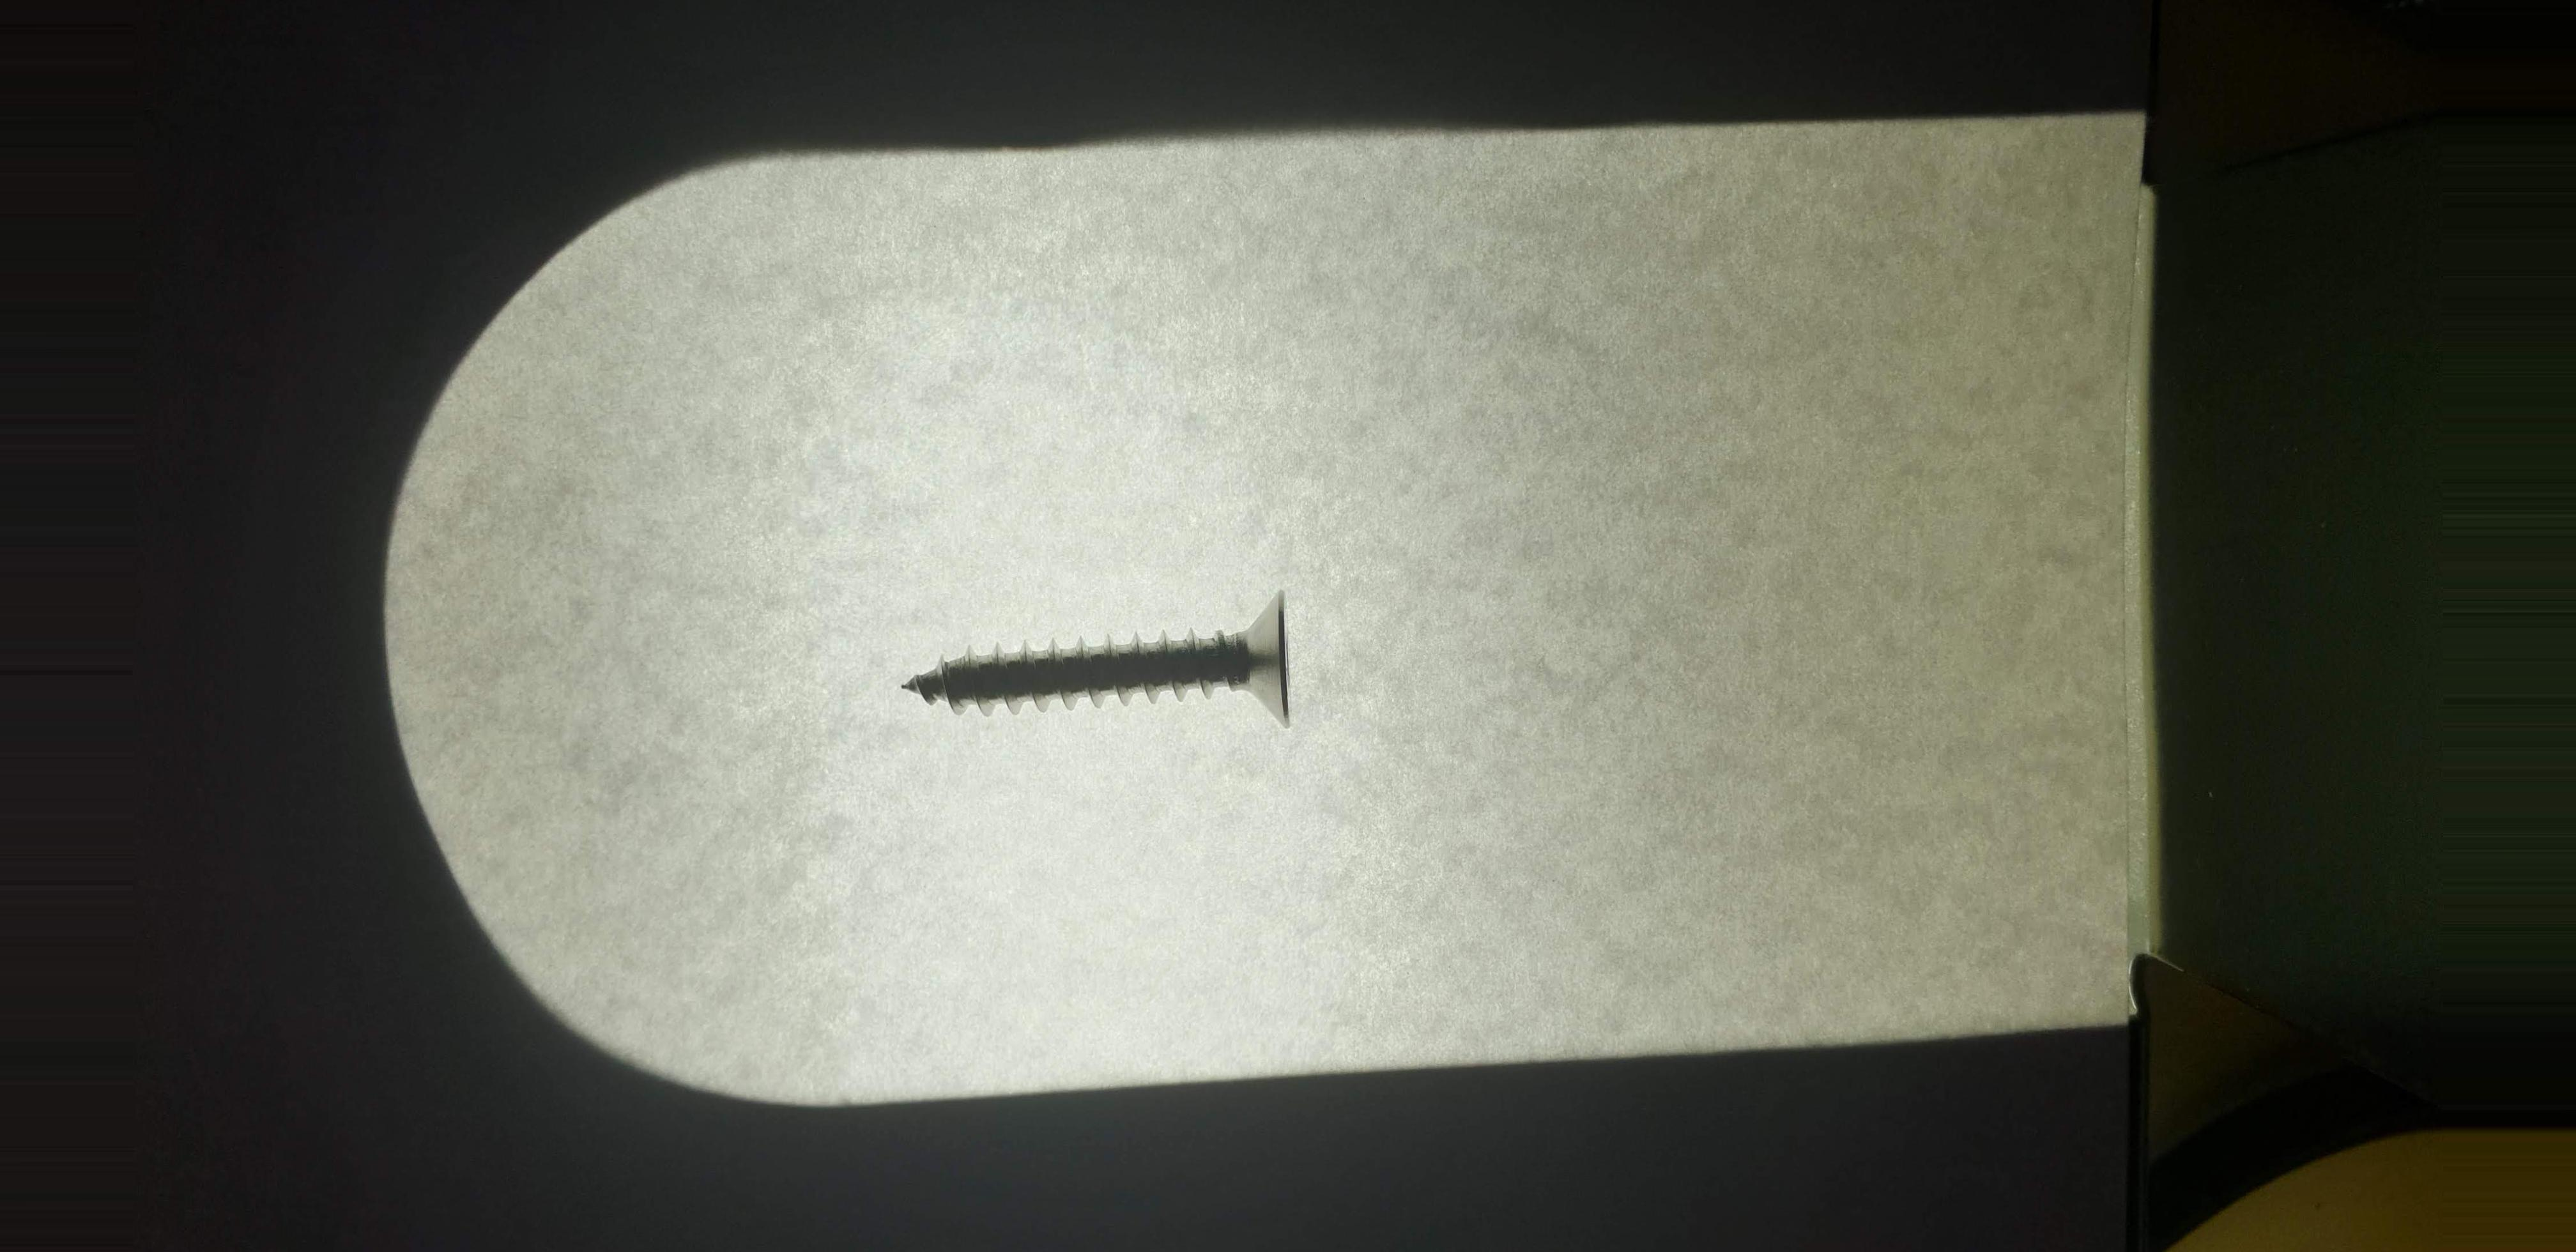S004: (882, 534, 1357, 795)
